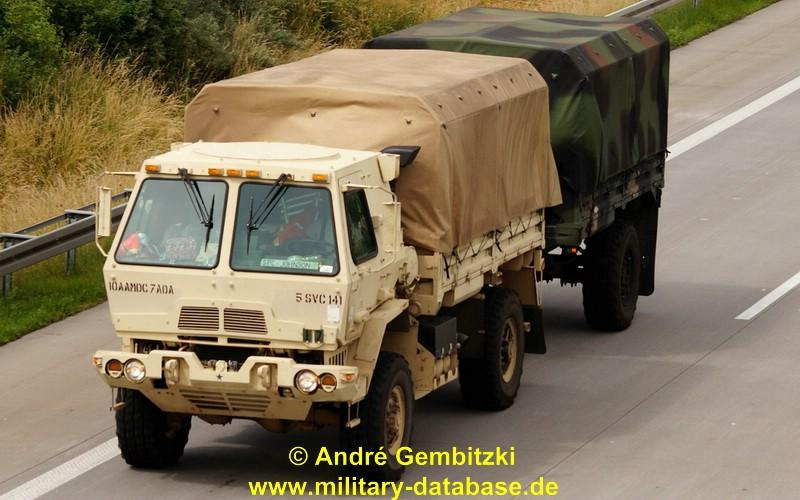truck: (77, 9, 680, 482)
